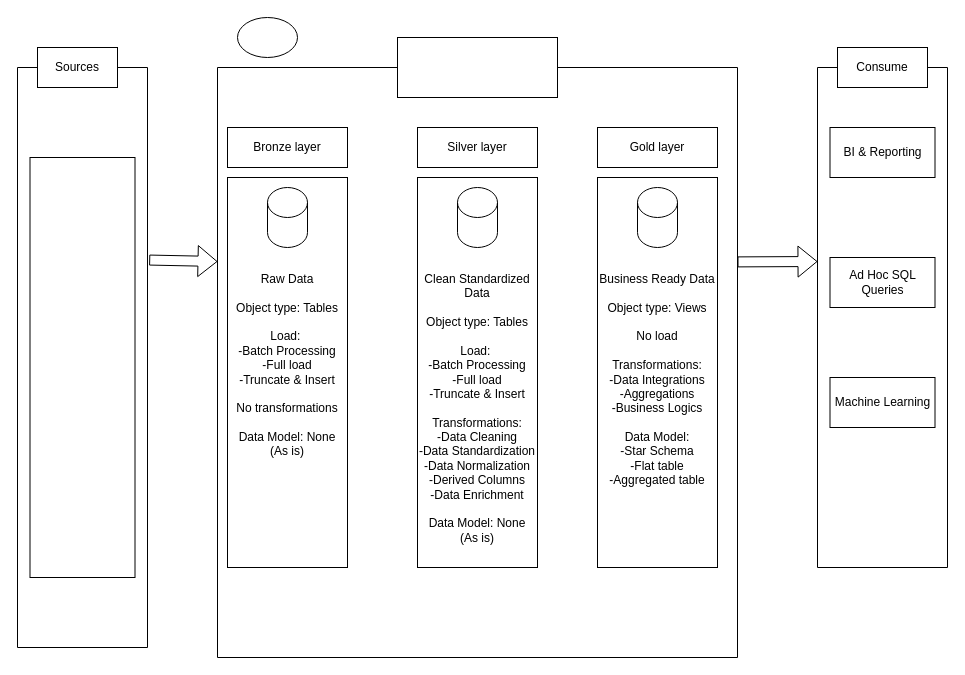
The diagram is 965 pixels wide and 675 high, and some of its shapes have lost their labels. Each missing label, with the centre of its shape:
"Data Warehouse" goes at pixel 477 67.
"Folders: CRM ERP Object type: CSV files Interface: Files in folders" goes at pixel 82 367.
"SQL Server" goes at pixel 267 37.
